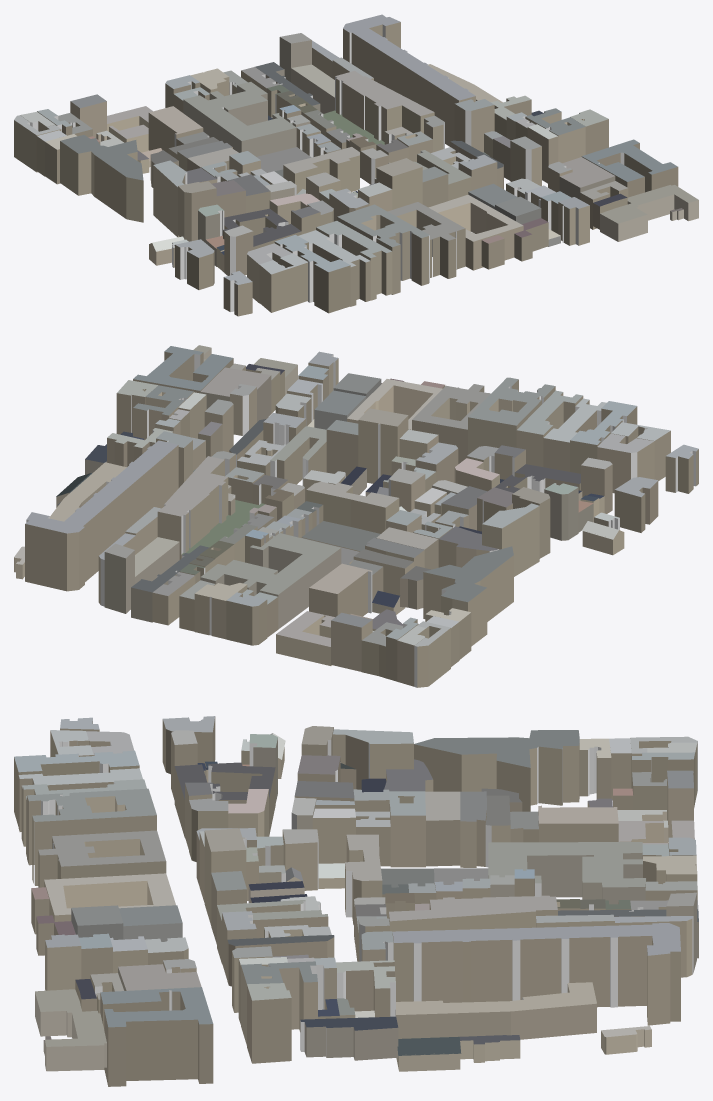
3 views of the same model, one above another, from view 1: azimuth 30°, elevation 25°; view 2: azimuth 150°, elevation 25°; view 3: azimuth 270°, elevation 25° (orthographic). The views are drawn at different scales.
Parts seen in each view (by area): view 1: tuile; view 2: tuile; view 3: tuile.
Boxes of the visible parts, x1,y1,x2,y2 form: tuile: (14, 14, 698, 316); tuile: (14, 345, 698, 687); tuile: (14, 716, 698, 1086).
Bounding box in the file's own units: 266 × 38.45 × 253.
